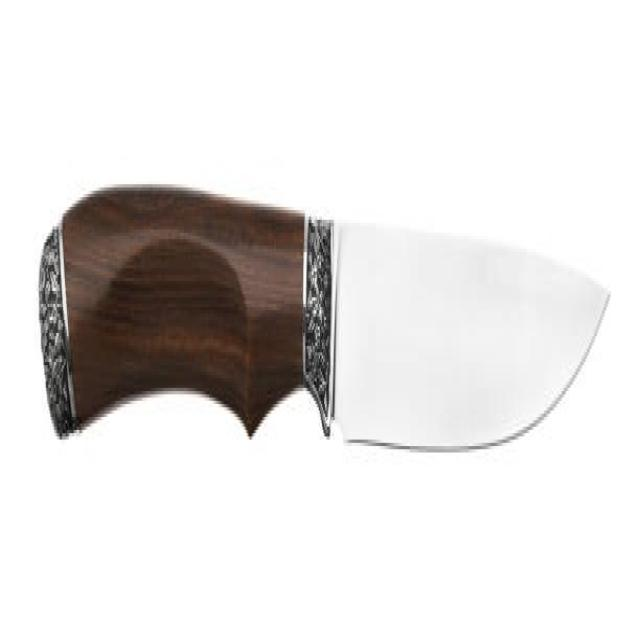knife: (36, 171, 616, 489)
